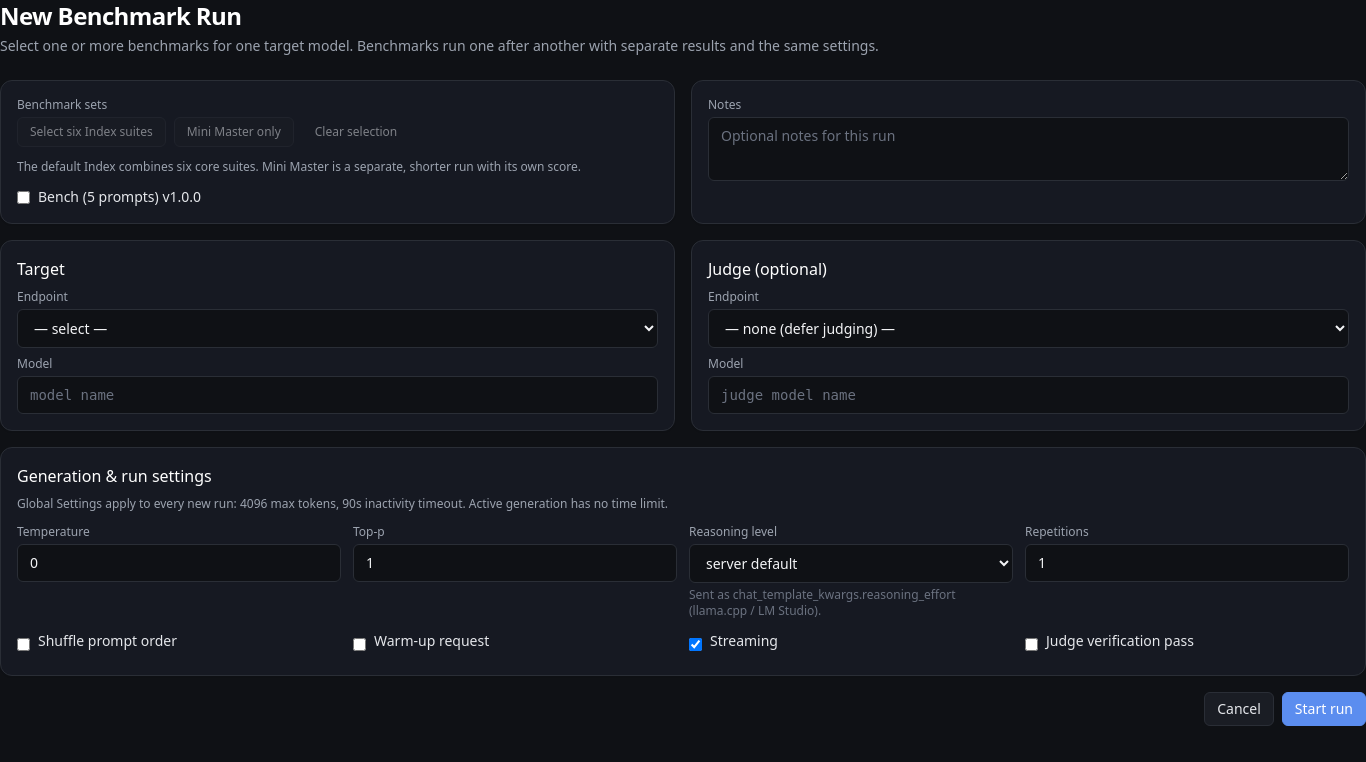
it: New Run form validation › warns when target and judge are the same model
Expected: the text "Bench (5 prompts) v1.0.0" is shown, [38,187,201,207]
Comboboxes: target endpoint, target model, judge endpoint, judge model.
Click the checkbox labelled "Bench (5 prompts) v1.0.0".
click(24, 198)  # box [17,191,30,204]
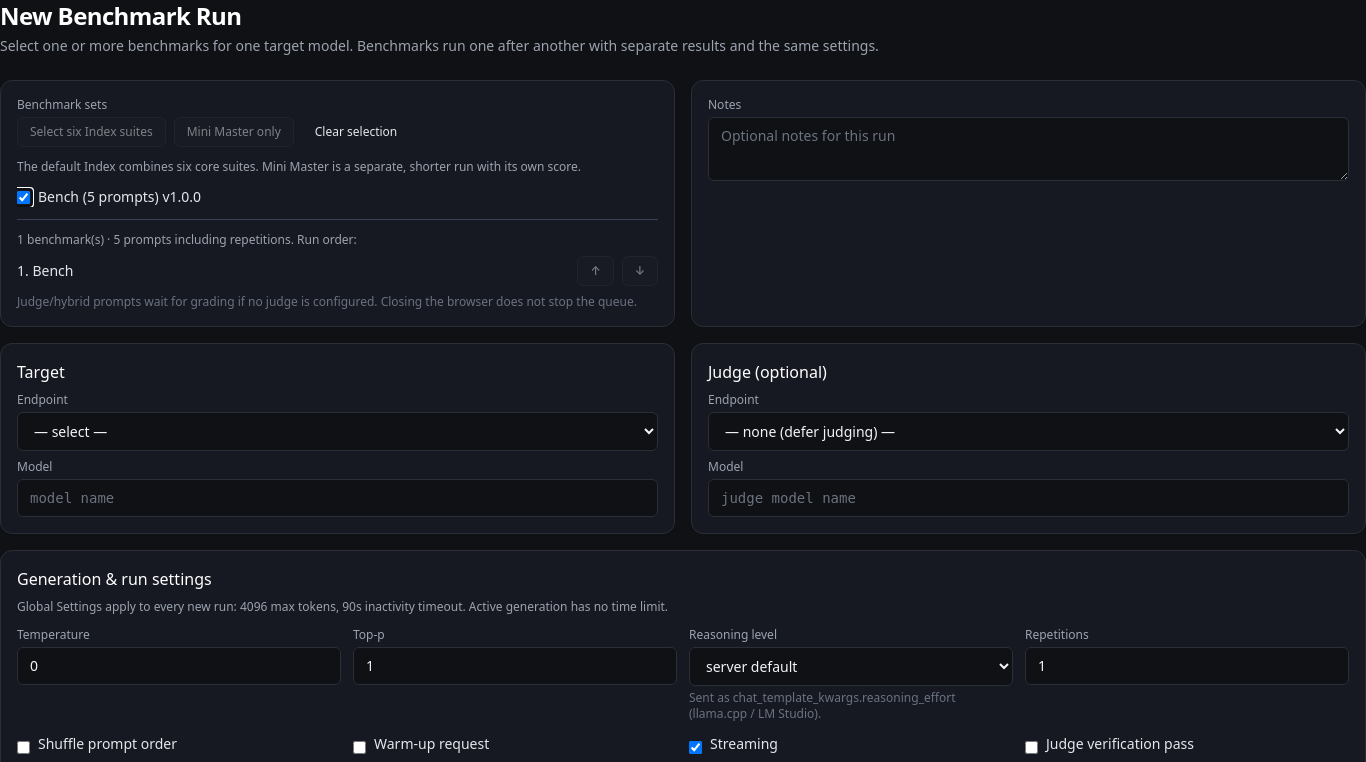
Select "Local" in the 1st dropdown at (338, 432), box [17,412,658,451]
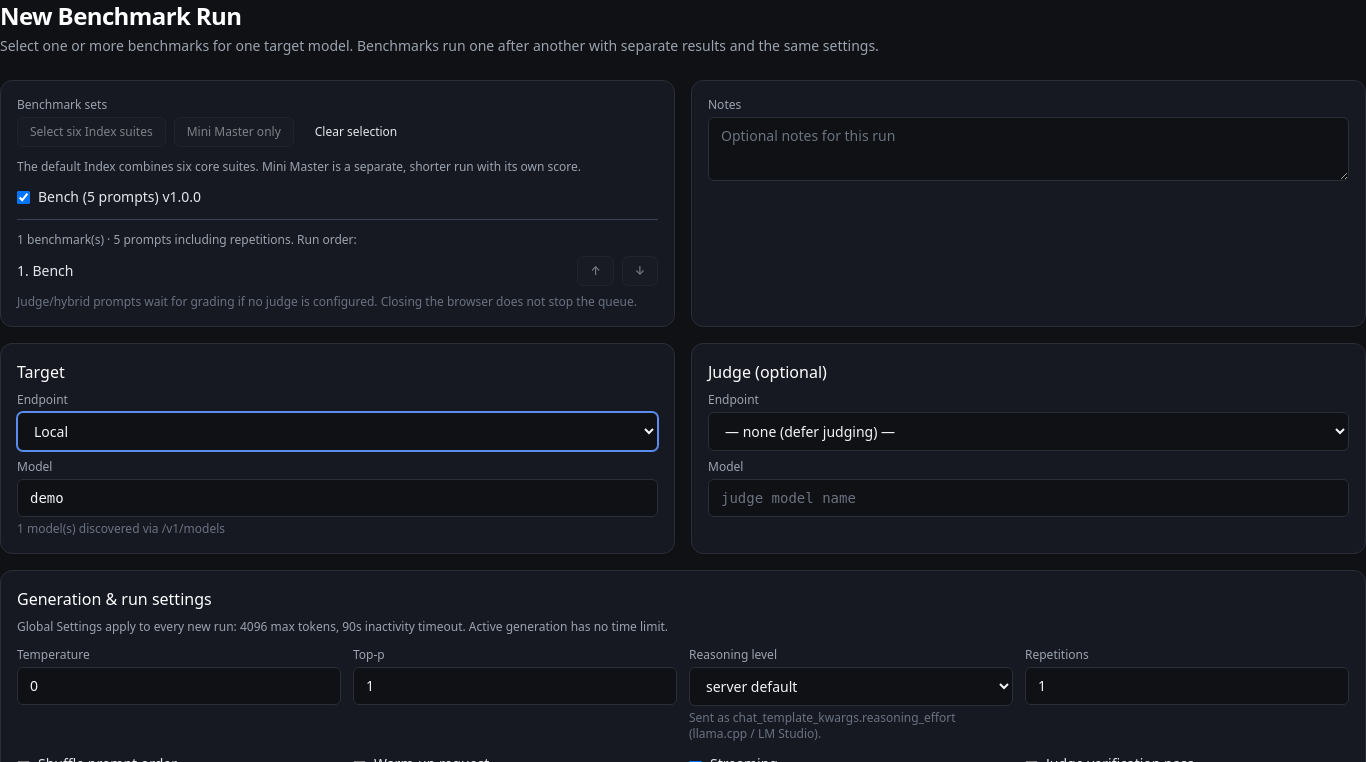
Select "Local" in the dropdown below "Judge (optional)" at (1028, 432), box [708,412,1349,451]
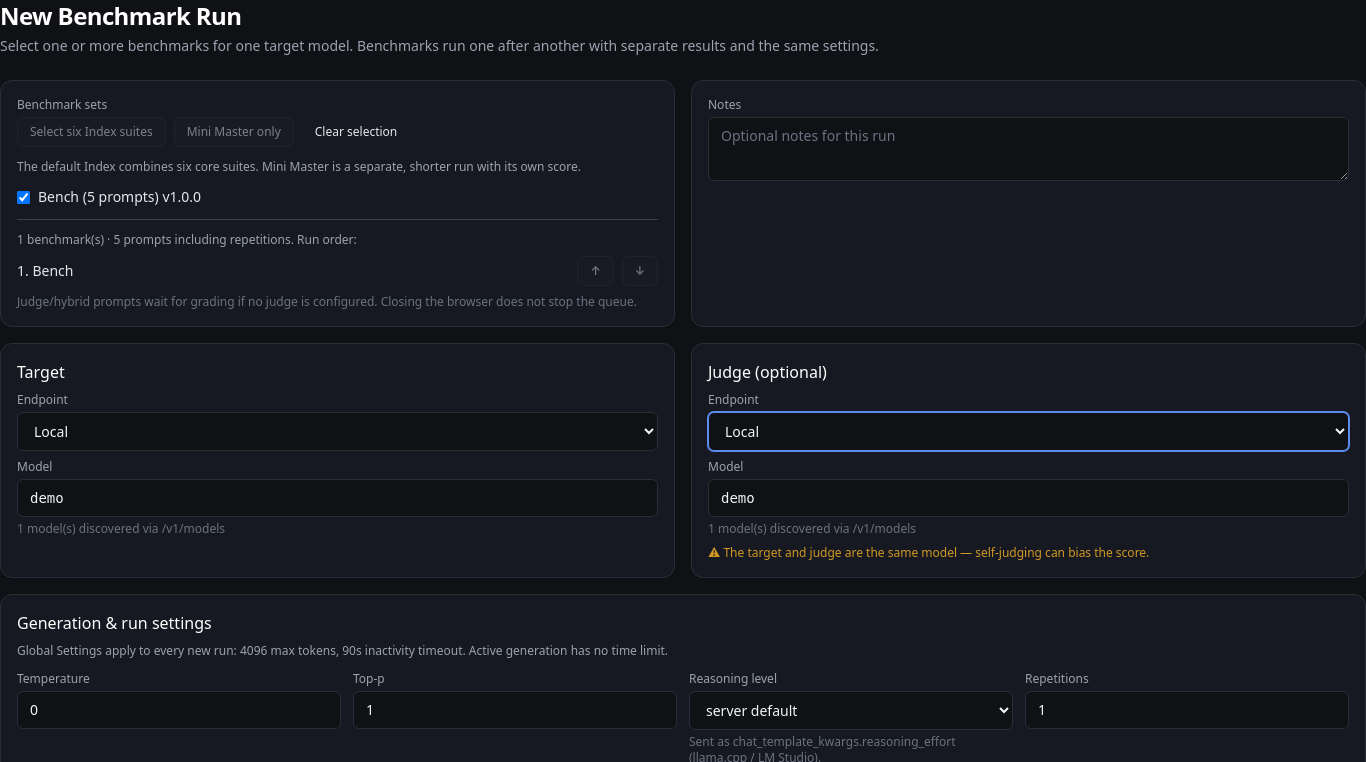
Now the text "self-judging can bias" is shown, box [708,544,1149,561]
